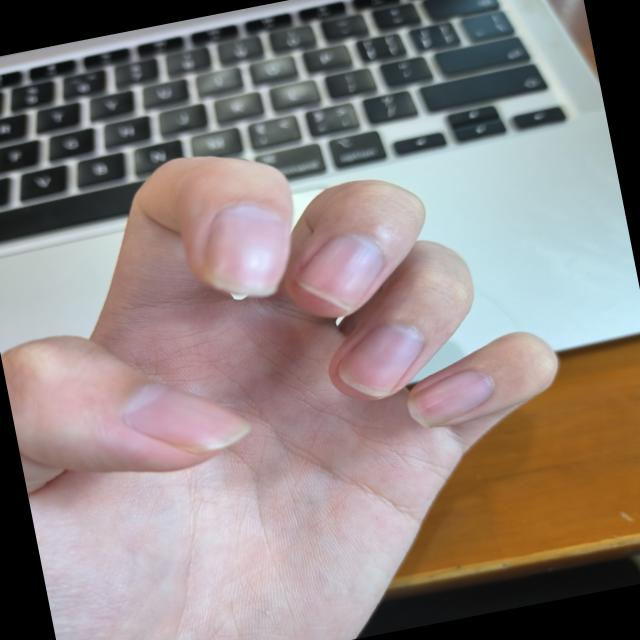Nail: (122, 383, 252, 452), (206, 205, 291, 295), (297, 233, 385, 309), (338, 323, 425, 395), (410, 371, 496, 427)
